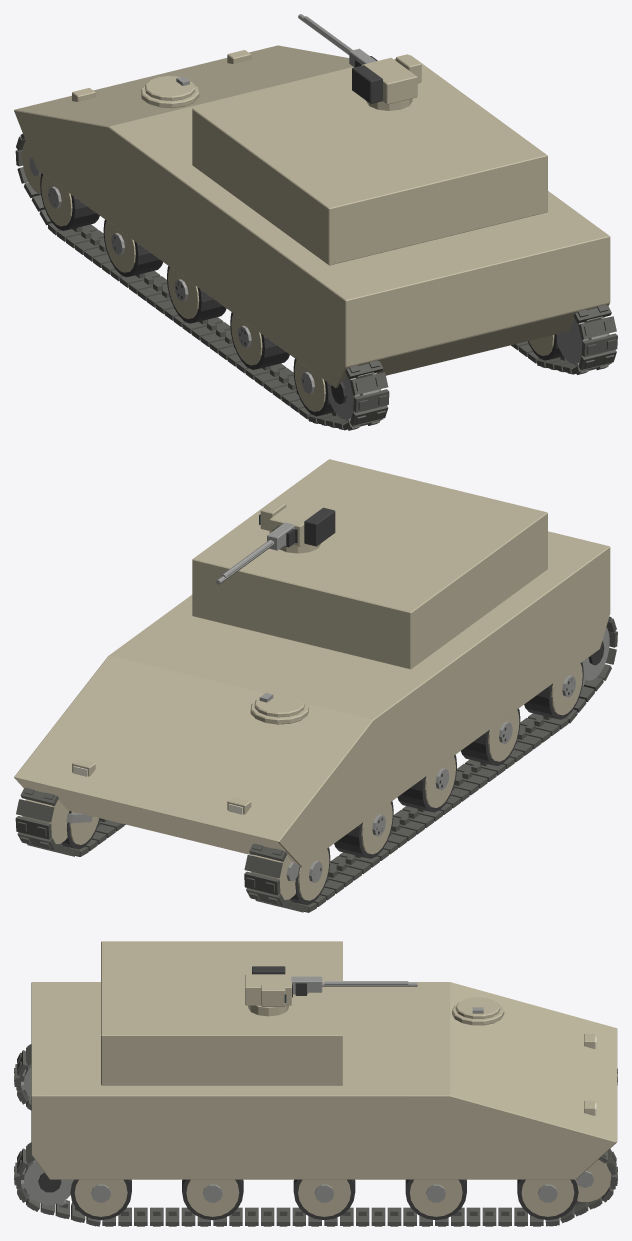
Rendered from rus_apc_btrd.glb.
3 renders of one model, top to bottom at view 1: azimuth 30°, elevation 25°; view 2: azimuth 150°, elevation 25°; view 3: azimuth 270°, elevation 25°, orthographic. The views are drawn at different scales.
Visible parts, largest first — view 1: body, turret, barrel; view 2: body, turret, barrel; view 3: body, turret, barrel.
Boxes of the visible parts, x1,y1,x2,y2 form: body: (14, 45, 617, 430); turret: (192, 14, 547, 265); barrel: (303, 16, 377, 67); body: (14, 531, 617, 912); turret: (192, 459, 547, 669); barrel: (221, 522, 295, 577); body: (14, 982, 617, 1226); turret: (101, 941, 417, 1085); barrel: (291, 976, 408, 995).
Size of the model in its own units: 2.9 by 2.52 by 6.49.
